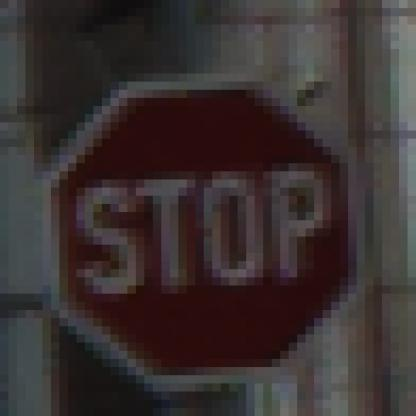stop: (37, 69, 369, 391)
